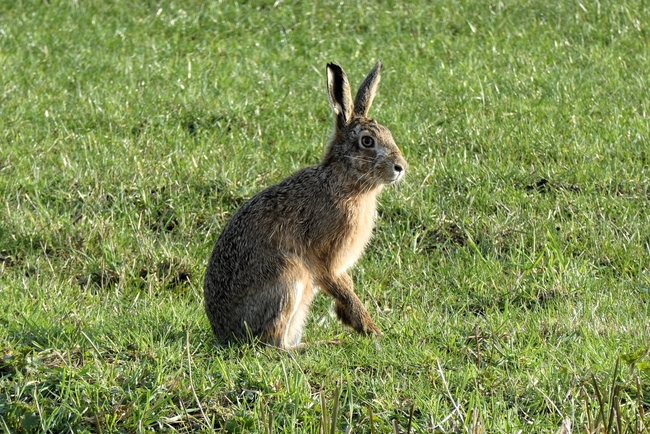rabbit: (203, 58, 409, 353)
